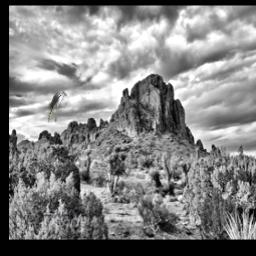Cuckoo: (47, 90, 66, 123)
